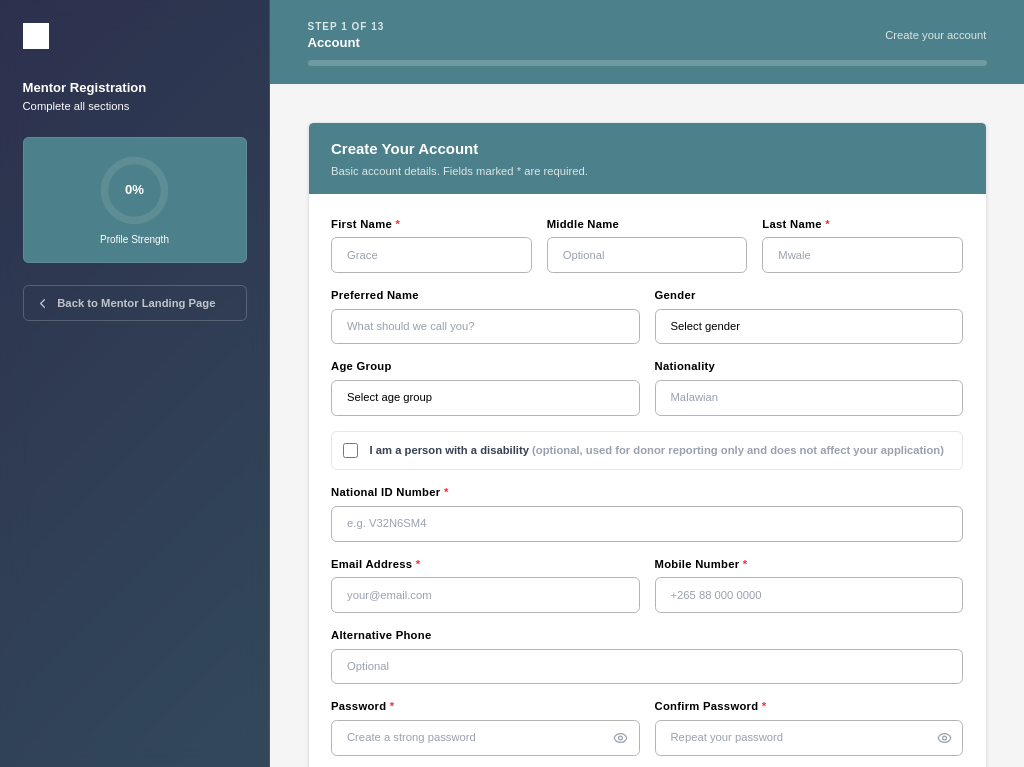
Test: mentor registration rejects duplicates right away › same phone number written differently
The width and height of the screenshot is (1024, 767).
Type "0999017017" into the field with placeholder "+265 88 000 0000" at (809, 595), box [654, 577, 963, 613]
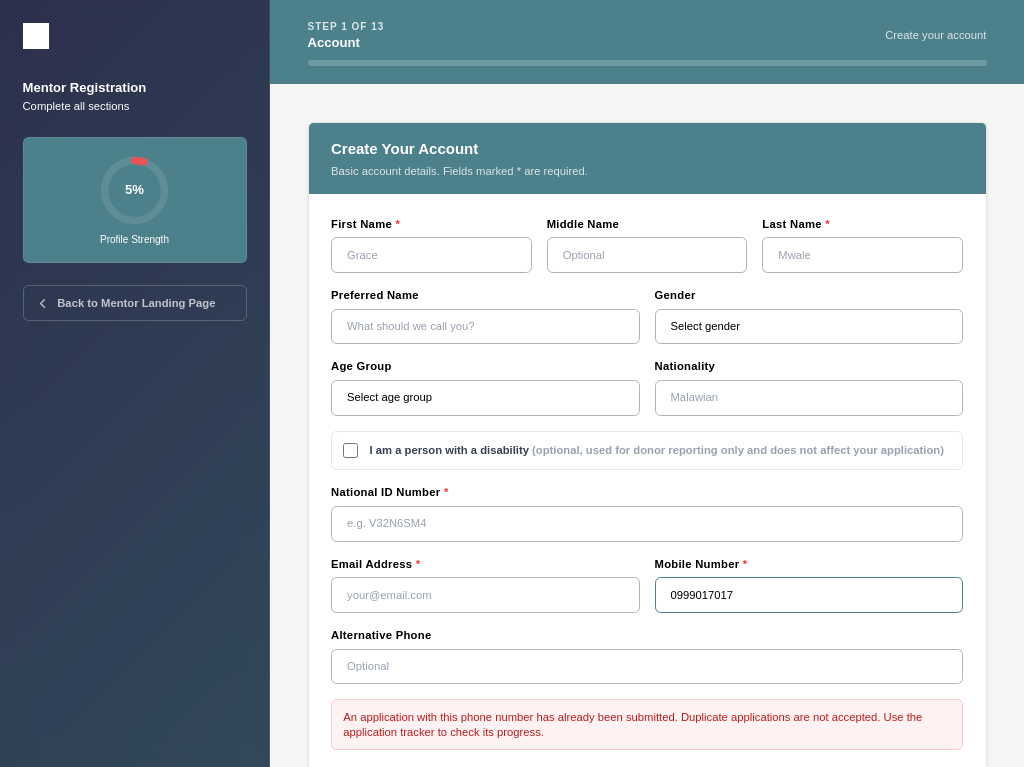
Expected: the message shows "phone number has already been submitted", [343, 711, 922, 738]
